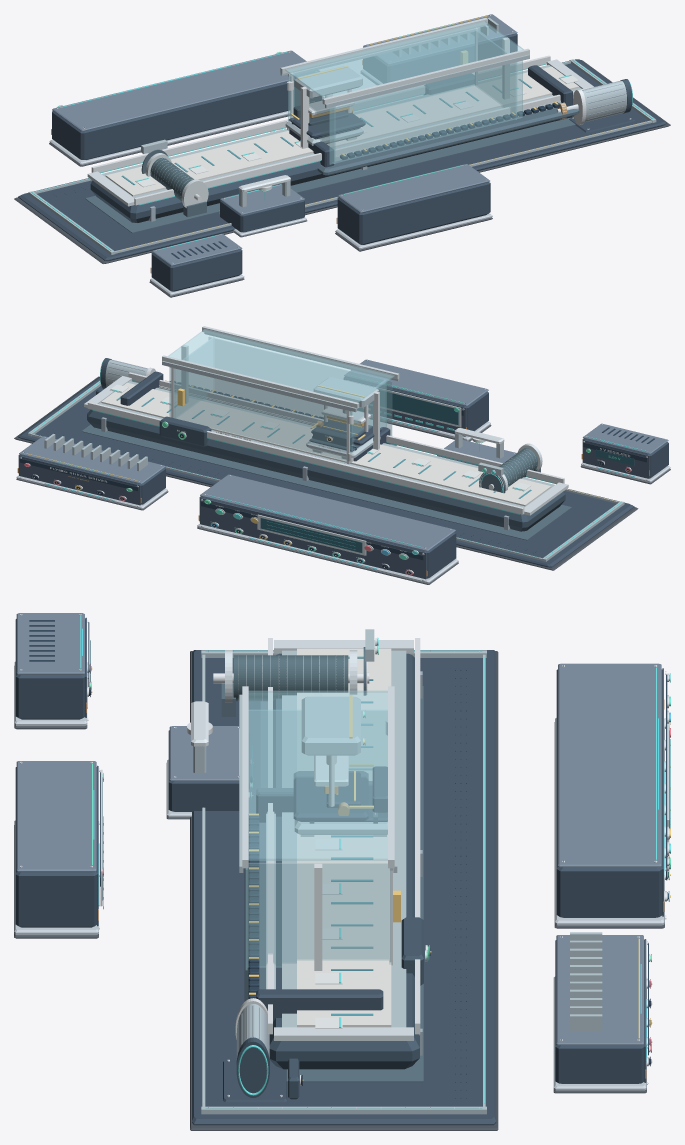
Rendered from Level49_Fitted_Assembly.fbx.
3 renders of one model, top to bottom at view 1: azimuth 30°, elevation 25°; view 2: azimuth 150°, elevation 25°; view 3: azimuth 270°, elevation 25°, orthographic. The views are drawn at different scales.
Visible parts, largest first — view 1: L49_Guard_Static__glassblue, L49_Frame_Static__graphite, L49_Web_Static__webwhite, L49_Controller_Static__graphite, L49_Controller_Static__mid_steel, L49_Guard_Door__glassblue, L49_Web_Static__chrome, L49_Quality_Static__graphite, L49_Frame_Static__darksteel, L49_Quality_Static__mid_steel, L49_Web_Static__carbon, L49_Rail_Static__darksteel (+30 smaller); view 2: L49_Guard_Static__glassblue, L49_Frame_Static__graphite, L49_Guard_Door__glassblue, L49_Web_Static__webwhite, L49_Web_Static__carbon, L49_Controller_Static__mid_steel, L49_Web_Static__chrome, L49_Frame_Static__darksteel, L49_Controller_Static__deep_steel, L49_Guard_Static__polished, L49_Quality_Static__mid_steel, L49_Driver_Static__mid_steel (+39 smaller); view 3: L49_Frame_Static__graphite, L49_Guard_Static__glassblue, L49_Controller_Static__mid_steel, L49_Web_Static__webwhite, L49_Web_Static__carbon, L49_Quality_Static__mid_steel, L49_Web_Static__nickel, L49_Driver_Static__mid_steel, L49_Controller_Static__graphite, L49_Frame_Static__nickel, L49_Quality_Static__graphite, L49_Encoder_Roll__rubberblue (+30 smaller).
Boxes of the visible parts, x1=… form: L49_Guard_Static__glassblue: x1=285, y1=21, x2=523, y2=164; L49_Frame_Static__graphite: x1=18, y1=59, x2=666, y2=260; L49_Web_Static__webwhite: x1=105, y1=66, x2=579, y2=196; L49_Controller_Static__graphite: x1=52, y1=81, x2=321, y2=159; L49_Controller_Static__mid_steel: x1=52, y1=50, x2=319, y2=131; L49_Guard_Door__glassblue: x1=288, y1=29, x2=480, y2=130; L49_Web_Static__chrome: x1=91, y1=55, x2=592, y2=205; L49_Quality_Static__graphite: x1=337, y1=182, x2=490, y2=244; L49_Frame_Static__darksteel: x1=85, y1=117, x2=575, y2=233; L49_Quality_Static__mid_steel: x1=338, y1=164, x2=489, y2=212; L49_Web_Static__carbon: x1=90, y1=116, x2=571, y2=222; L49_Rail_Static__darksteel: x1=317, y1=108, x2=579, y2=175; L49_Guard_Static__glassblue: x1=168, y1=329, x2=394, y2=444; L49_Frame_Static__graphite: x1=18, y1=376, x2=634, y2=567; L49_Guard_Door__glassblue: x1=169, y1=367, x2=352, y2=462; L49_Web_Static__webwhite: x1=101, y1=382, x2=551, y2=506; L49_Web_Static__carbon: x1=87, y1=409, x2=565, y2=531; L49_Controller_Static__mid_steel: x1=200, y1=474, x2=455, y2=580; L49_Web_Static__chrome: x1=87, y1=372, x2=564, y2=514; L49_Frame_Static__darksteel: x1=81, y1=424, x2=571, y2=540; L49_Controller_Static__deep_steel: x1=200, y1=497, x2=426, y2=579; L49_Guard_Static__polished: x1=162, y1=326, x2=399, y2=408; L49_Quality_Static__mid_steel: x1=344, y1=359, x2=488, y2=438; L49_Driver_Static__mid_steel: x1=19, y1=436, x2=165, y2=506; L49_Frame_Static__graphite: x1=192, y1=650, x2=496, y2=1125; L49_Guard_Static__glassblue: x1=245, y1=690, x2=388, y2=970; L49_Controller_Static__mid_steel: x1=558, y1=663, x2=661, y2=867; L49_Web_Static__webwhite: x1=297, y1=648, x2=391, y2=1027; L49_Web_Static__carbon: x1=269, y1=653, x2=419, y2=1069; L49_Quality_Static__mid_steel: x1=16, y1=761, x2=96, y2=872; L49_Web_Static__nickel: x1=282, y1=650, x2=406, y2=1027; L49_Driver_Static__mid_steel: x1=556, y1=935, x2=648, y2=1083; L49_Controller_Static__graphite: x1=556, y1=669, x2=662, y2=917; L49_Frame_Static__nickel: x1=201, y1=650, x2=486, y2=1114; L49_Quality_Static__graphite: x1=15, y1=767, x2=96, y2=927; L49_Encoder_Roll__rubberblue: x1=233, y1=655, x2=348, y2=701.
Bounding box in the file's own units: 195 × 31.5 × 113.
